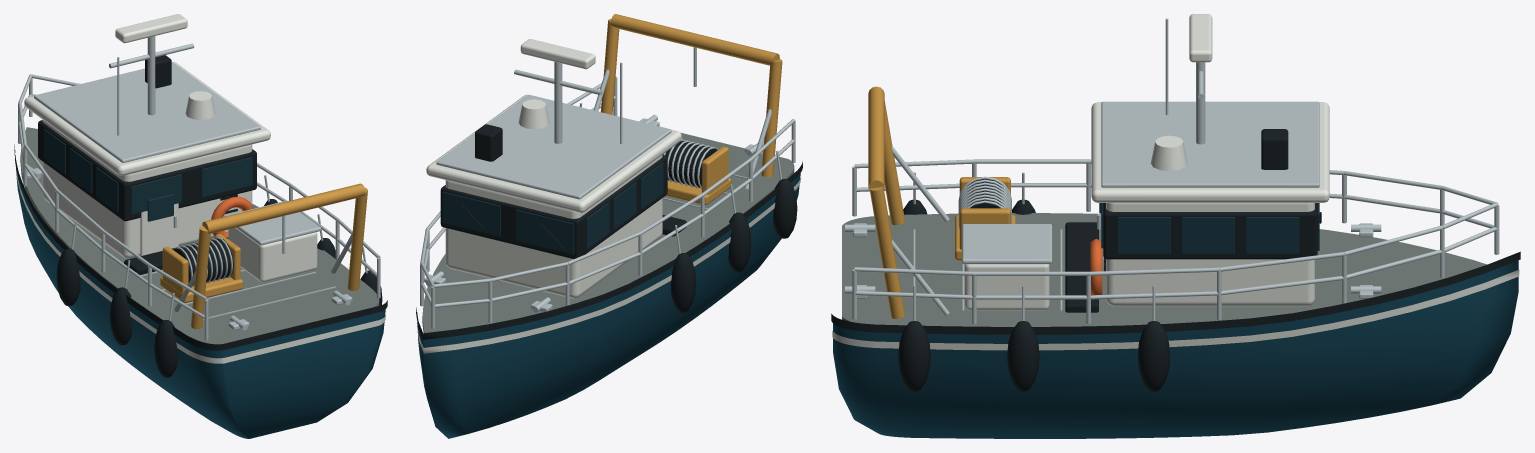
File: research-vessel-balanced.v1.glb
3 renders of one model, left to right at view 1: azimuth 30°, elevation 25°; view 2: azimuth 150°, elevation 25°; view 3: azimuth 270°, elevation 25°, orthographic. The views are drawn at different scales.
Visible parts, largest first — view 1: steel, hull, ivory, deck, rubber, equipment, glass, safety; view 2: hull, steel, ivory, rubber, deck, equipment, glass; view 3: hull, steel, ivory, deck, rubber, glass, equipment.
Boxes of the visible parts, left/top/right/bottom form: steel: left=18, top=36, right=380, bottom=340; hull: left=15, top=150, right=385, bottom=438; ivory: left=15, top=14, right=385, bottom=363; deck: left=20, top=127, right=379, bottom=344; rubber: left=14, top=55, right=387, bottom=377; equipment: left=160, top=183, right=367, bottom=329; glass: left=43, top=128, right=252, bottom=221; safety: left=211, top=196, right=253, bottom=237; hull: left=417, top=173, right=800, bottom=438; steel: left=420, top=47, right=795, bottom=328; ivory: left=417, top=39, right=800, bottom=353; rubber: left=416, top=124, right=802, bottom=339; deck: left=422, top=132, right=794, bottom=333; equipment: left=600, top=14, right=782, bottom=204; glass: left=442, top=162, right=663, bottom=254; hull: left=833, top=260, right=1518, bottom=438; steel: left=845, top=18, right=1499, bottom=323; ivory: left=832, top=14, right=1519, bottom=350; deck: left=842, top=213, right=1486, bottom=326; rubber: left=831, top=129, right=1520, bottom=391; glass: left=1099, top=203, right=1319, bottom=253; equipment: left=868, top=86, right=1015, bottom=318.
Bounding box in the file's own units: 2.92 × 3.86 × 6.33.
